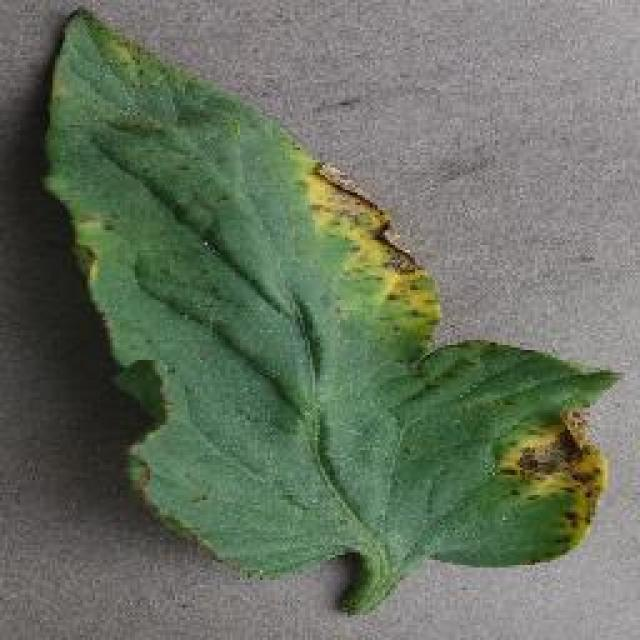Tomato bacterial spot leaf: (40, 1, 625, 576)
